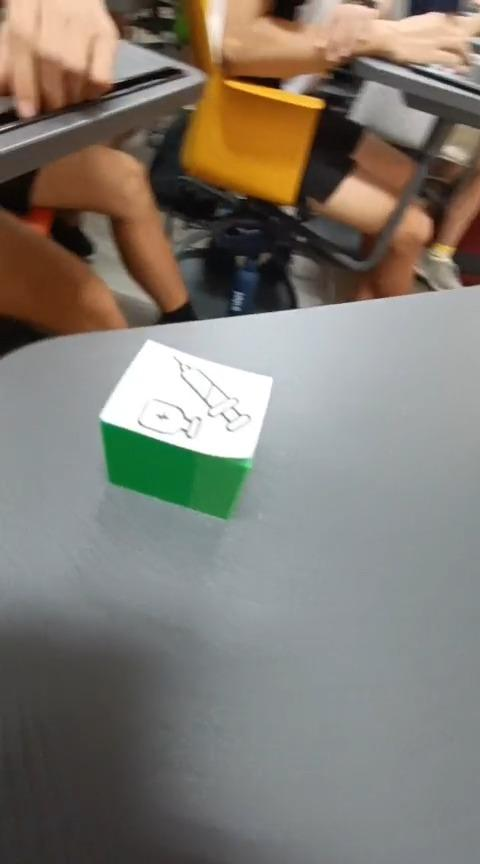antiseptic cream: (97, 337, 274, 521)
